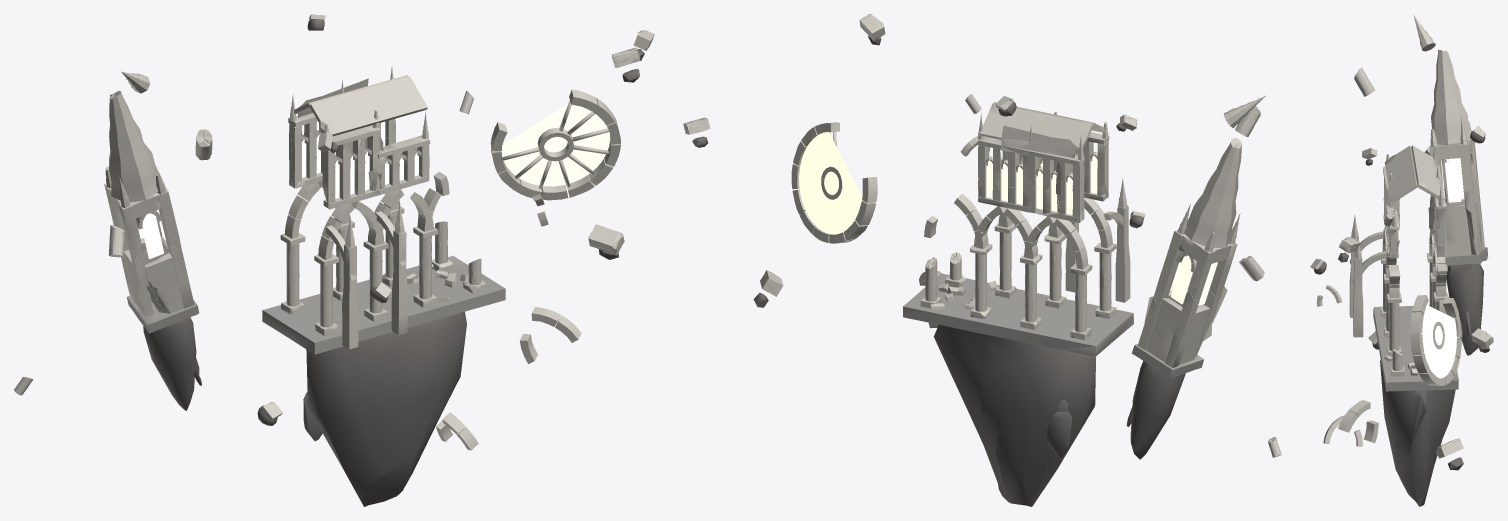
Rendered from sky_cathedral.glb.
The picture shows the model from 3 angles, left to right: view 1: azimuth 30°, elevation 25°; view 2: azimuth 150°, elevation 25°; view 3: azimuth 270°, elevation 25°; orthographic projection. The views are drawn at different scales.
Parts seen in each view (by area): view 1: nave_mesh, tower_mesh, rose_mesh, debris2_mesh, debris4_mesh, debris6_mesh; view 2: nave_mesh, tower_mesh, rose_mesh; view 3: nave_mesh, tower_mesh, rose_mesh, debris2_mesh, debris4_mesh, debris8_mesh, debris12_mesh, debris13_mesh, debris6_mesh.
Boxes of the visible parts, x1,y1,x2,y2 form: nave_mesh: [262, 66, 505, 506]; tower_mesh: [104, 71, 201, 410]; rose_mesh: [490, 89, 620, 200]; debris2_mesh: [519, 307, 581, 363]; debris4_mesh: [588, 224, 624, 259]; debris6_mesh: [436, 412, 478, 450]; nave_mesh: [903, 102, 1133, 506]; tower_mesh: [1126, 95, 1266, 459]; rose_mesh: [791, 122, 877, 243]; nave_mesh: [1349, 145, 1458, 506]; tower_mesh: [1413, 14, 1487, 355]; rose_mesh: [1410, 295, 1461, 385]; debris2_mesh: [1338, 400, 1378, 442]; debris4_mesh: [1436, 438, 1463, 470]; debris8_mesh: [1471, 328, 1493, 352]; debris12_mesh: [1338, 237, 1360, 262]; debris13_mesh: [1354, 67, 1375, 96]; debris6_mesh: [1323, 416, 1362, 446].
Size of the model in its own units: 174 by 129 by 55.25.
